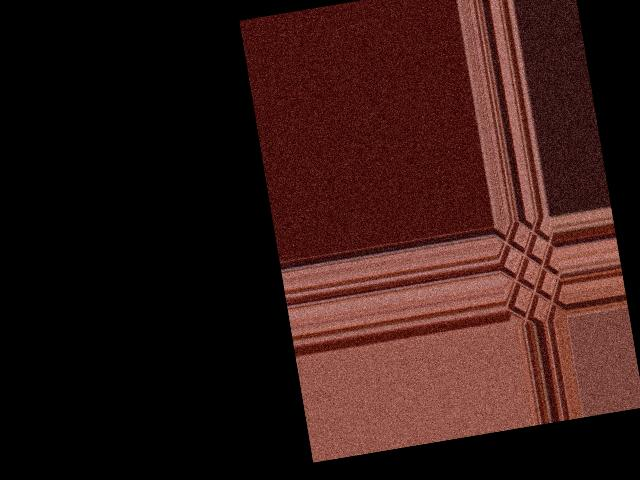chocolate: (493, 219, 565, 327)
